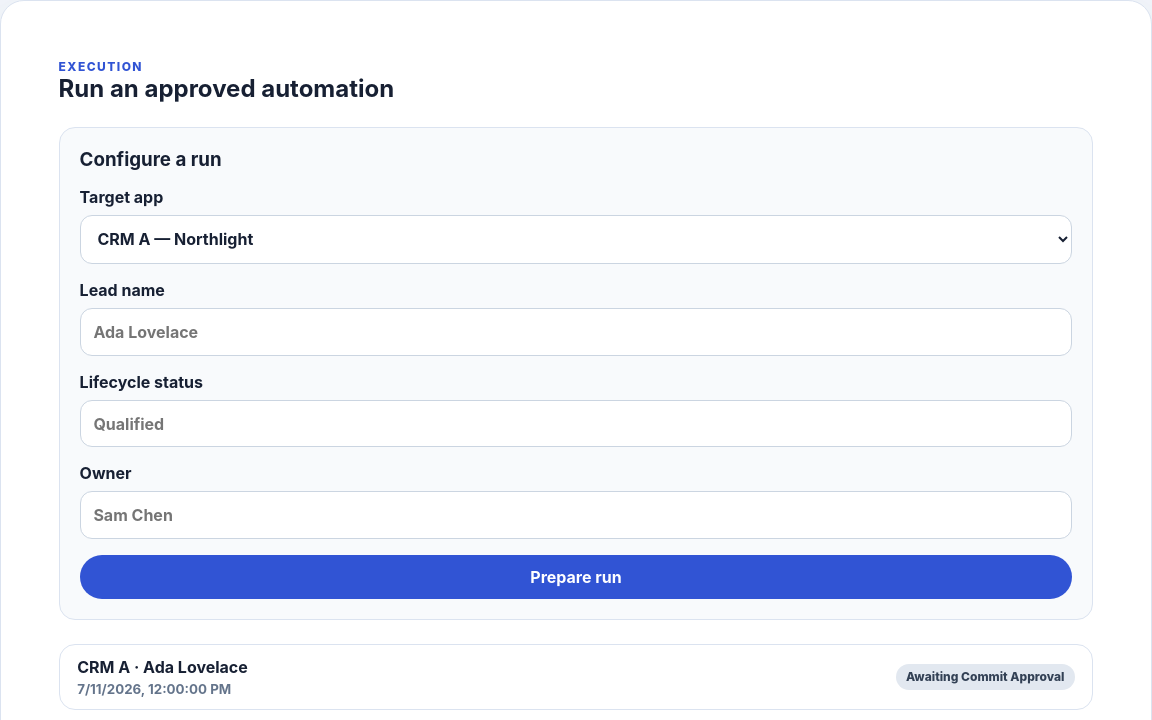
ExecutionPage approval surface › keeps Approve disabled until the staged change has rendered
The width and height of the screenshot is (1152, 720).
Click the button "Ada Lovelace" at (104, 667), box x1=59 y1=644 x2=1093 y2=710
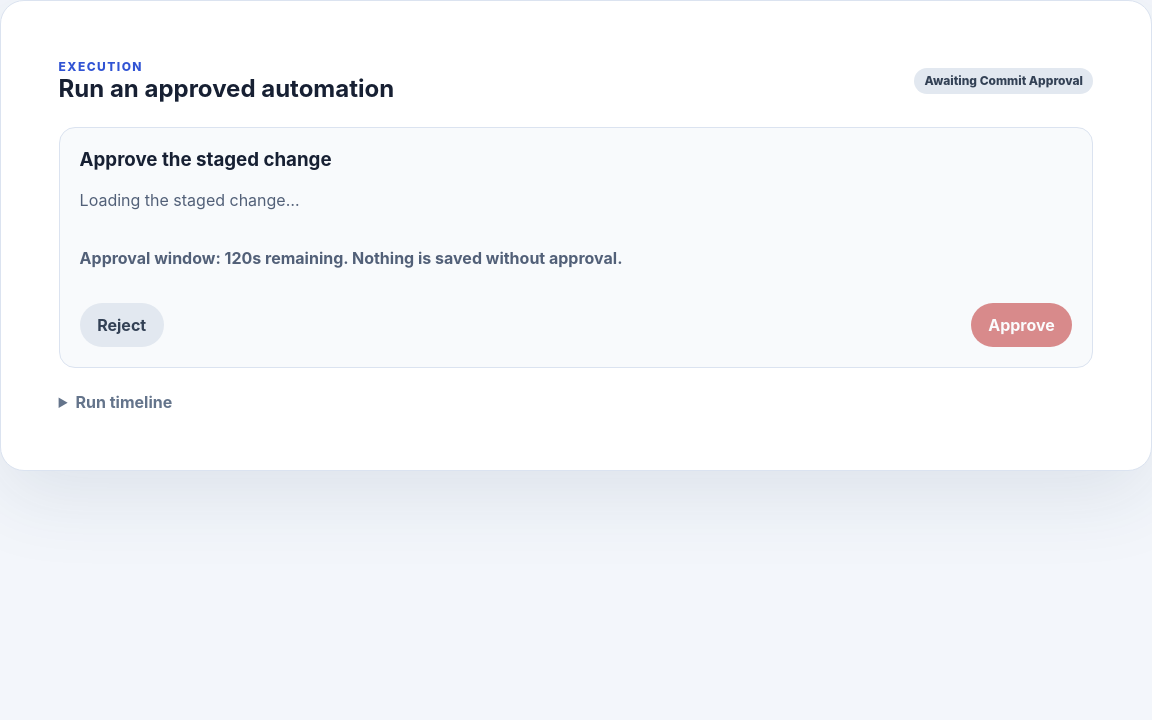
Check: the heading "Approve the staged change" is shown, box x1=80 y1=148 x2=332 y2=171
Check: the text "Loading the staged change…" is shown, box x1=80 y1=190 x2=300 y2=210
Check: the button "Approve" is disabled, box x1=971 y1=303 x2=1072 y2=347
